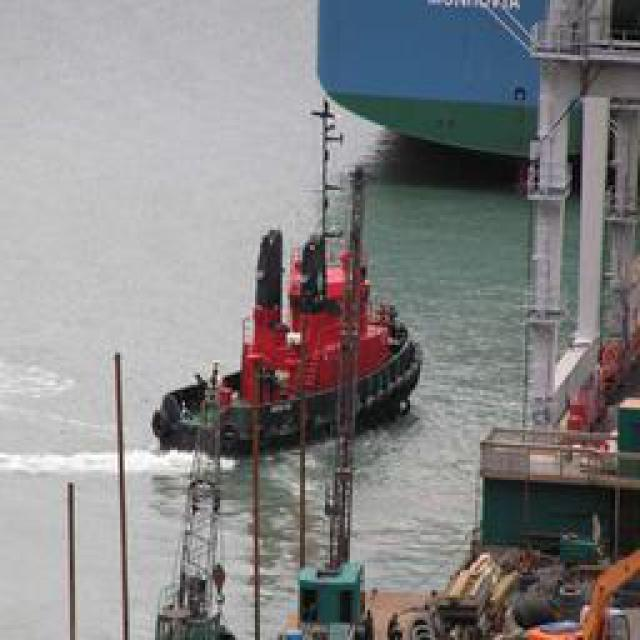Ship: (160, 216, 423, 459)
